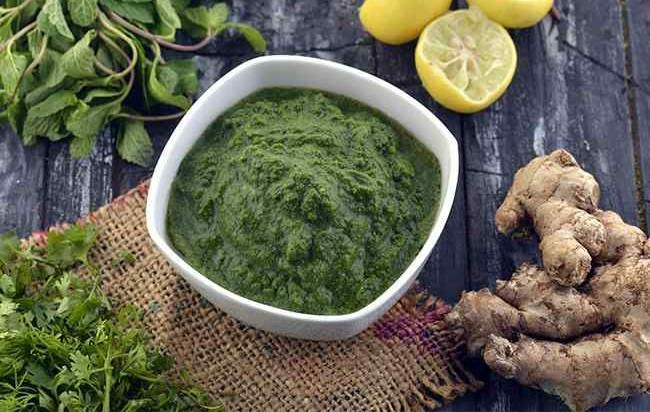GreenChutney: (165, 88, 440, 314)
